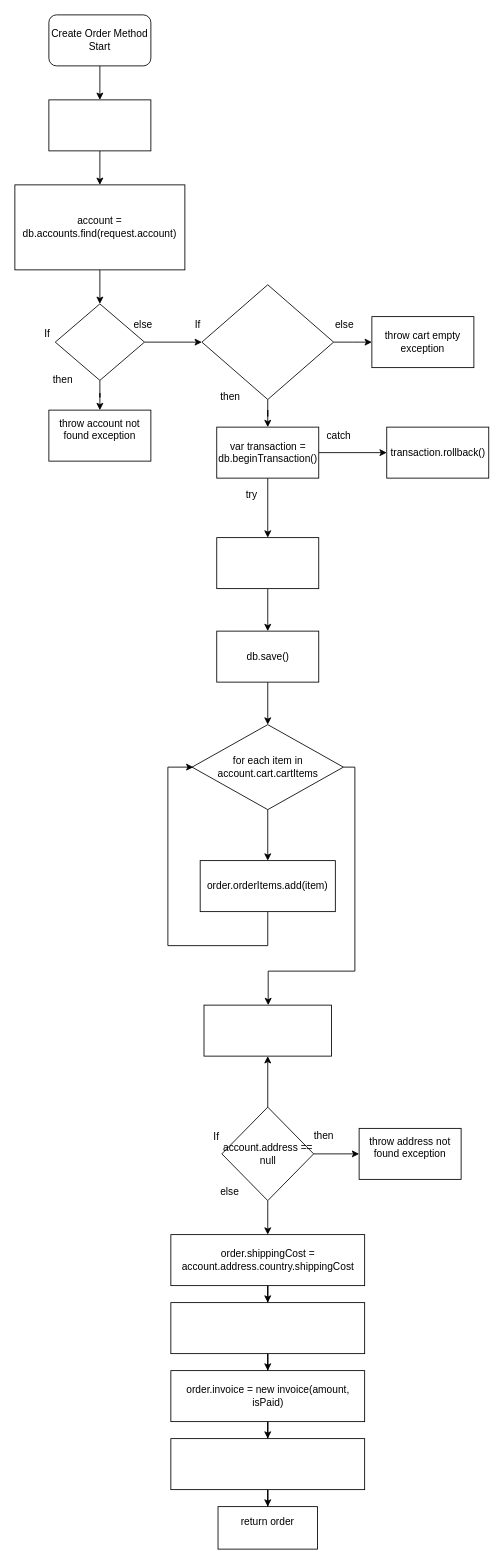
Image size: 504x1564. Some labels were removed from this diagram. Here are the shapes that lost their labels. From the top down, the box of each, then its label:
(48, 99, 151, 151): read var request
(54, 303, 144, 380): account == null
(201, 284, 334, 400): account.cart.cartItems > 1
(216, 537, 319, 589): var order = db.orders.add(new order())
(203, 1004, 332, 1056): db.cartItems.remove( account.cart.cartItems)
(170, 1302, 365, 1354): order.totalCost = account.cart.cartItems.sum(item.price)
(170, 1438, 365, 1490): db.save() transaction.commit()
